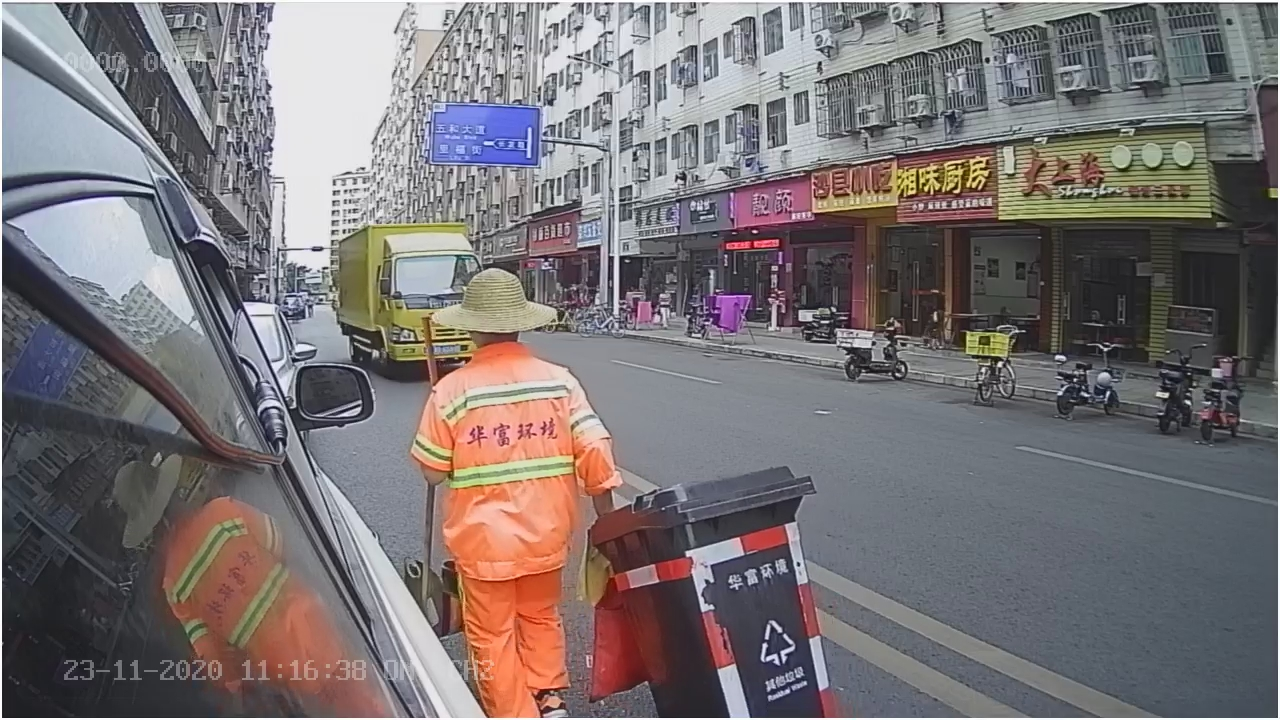person: (431, 263, 625, 501)
